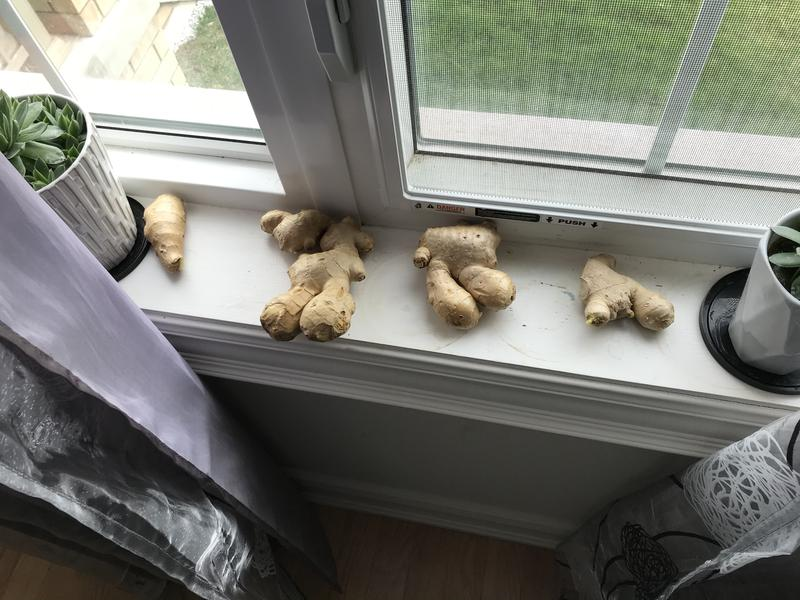ginger: (247, 195, 382, 357), (411, 215, 521, 340), (573, 247, 682, 338), (134, 183, 197, 284)
